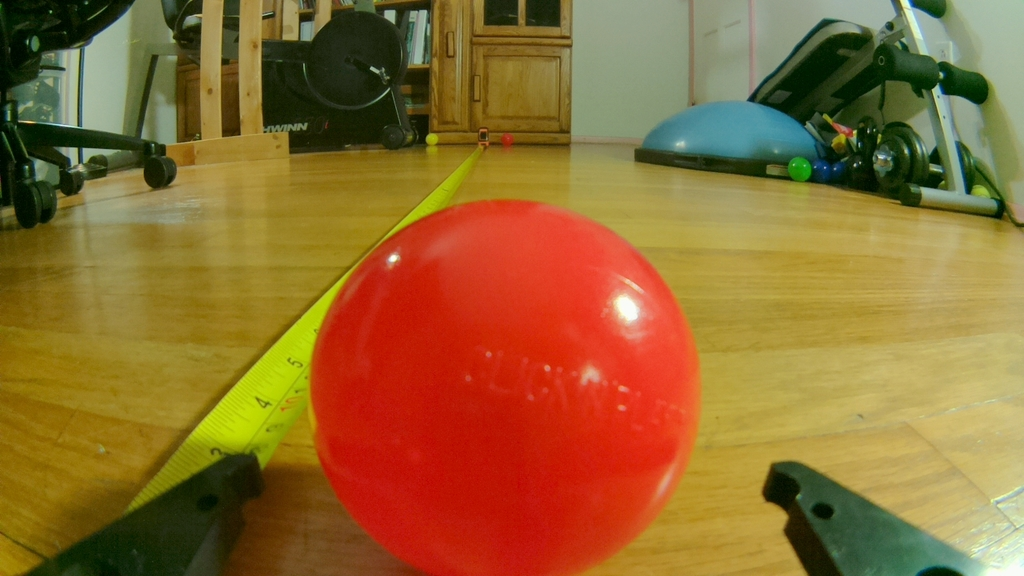ball: (308, 194, 709, 576)
